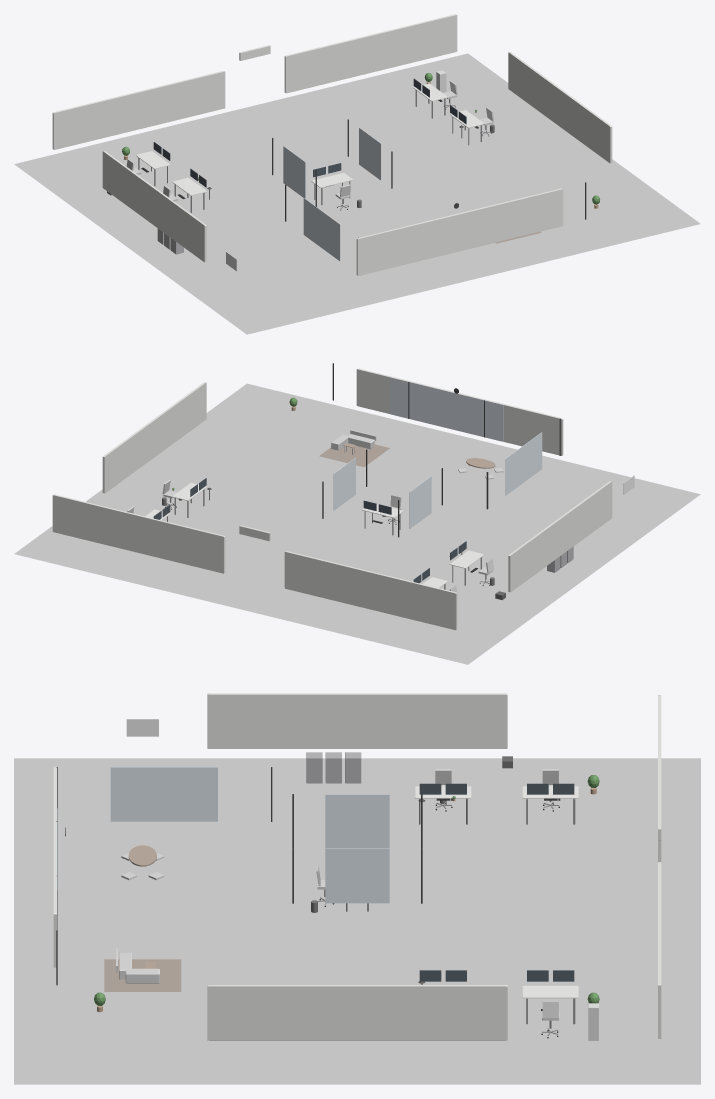
Rendered from office_v24.glb.
3 renders of one model, top to bottom at view 1: azimuth 30°, elevation 25°; view 2: azimuth 150°, elevation 25°; view 3: azimuth 270°, elevation 25°, orthographic. The views are drawn at different scales.
Visible parts, largest first — view 1: Plane, Cube, Cube.002, Cube.001, Cube.004, Cube.005, Cube.013, Cube.011, Cube.012; view 2: Plane, Cube.002, Cube.001, Cube.014, Cube.004, Cube.005, Cube, Cube.013, Cube.011, Cube.012, Plane.001; view 3: Plane, Cube.004, Cube.005, Cube.013, Cube.012, Cube.011, Plane.001, Cube, Cube.077, Cube.002.
Boxes of the visible parts, x1,y1,x2,y2 form: Plane: (14,53,700,334); Cube: (356,188,563,275); Cube.002: (284,14,457,93); Cube.001: (52,71,225,149); Cube.004: (102,151,206,262); Cube.005: (508,52,612,163); Cube.013: (303,198,340,261); Cube.011: (283,146,305,198); Cube.012: (359,127,381,180); Plane: (14,383,700,664); Cube.002: (52,494,225,573); Cube.001: (284,551,457,630); Cube.014: (390,377,503,441); Cube.004: (508,481,612,592); Cube.005: (102,382,206,493); Cube: (356,368,563,455); Cube.013: (505,432,542,495); Cube.011: (409,476,431,528); Cube.012: (333,458,355,510); Plane.001: (319,444,389,466); Plane: (14,758,700,1084); Cube.004: (207,693,507,748); Cube.005: (207,985,507,1040); Cube.013: (110,767,217,821); Cube.012: (325,848,389,903); Cube.011: (325,794,389,848); Plane.001: (104,959,181,991); Cube: (53,766,56,967); Cube.077: (522,985,578,998); Cube.002: (658,862,661,1038).
Bounding box in the file's own units: 18 × 2.65 × 16.
